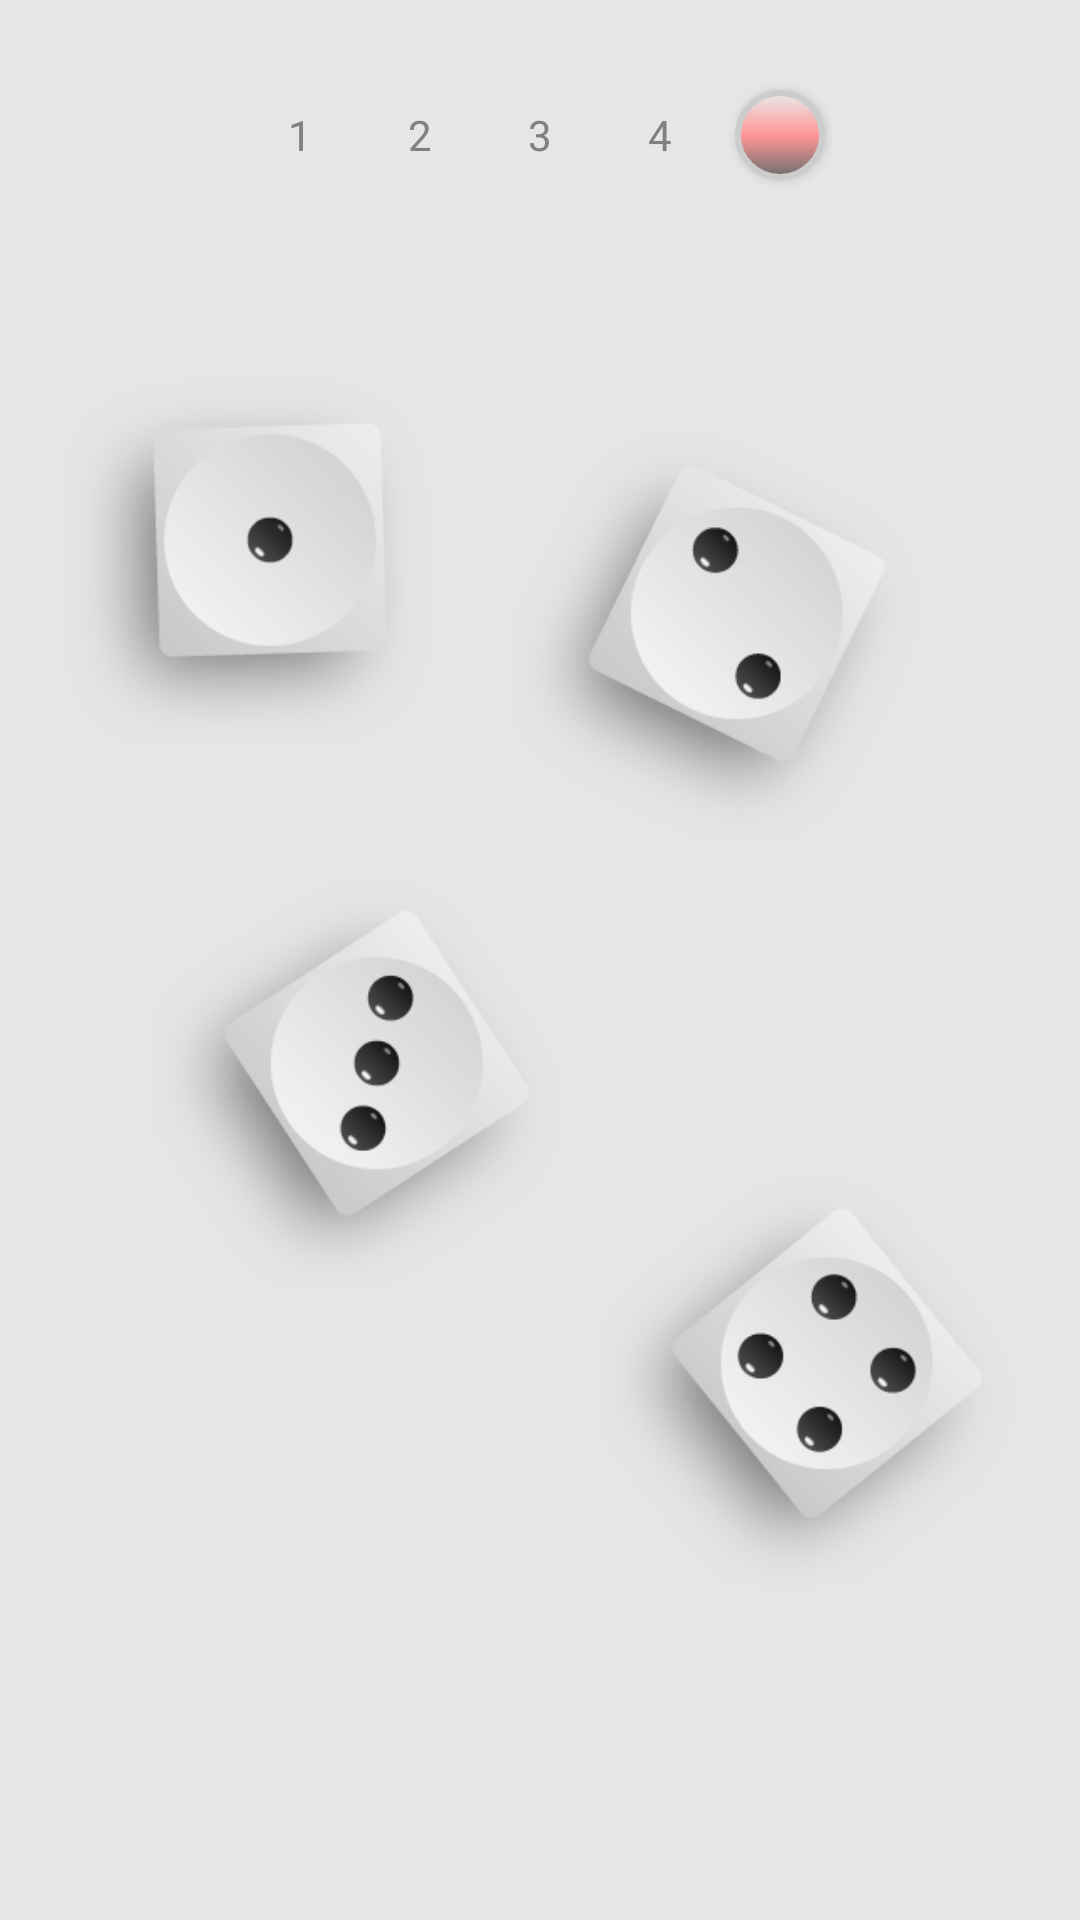

Locate icon controls on the screen. Image size 1080 x 1920, boxes as (x1, y1, x2, y2).
dice: (115, 453, 362, 695), (568, 498, 849, 782), (206, 946, 495, 1234), (654, 1244, 946, 1536)
